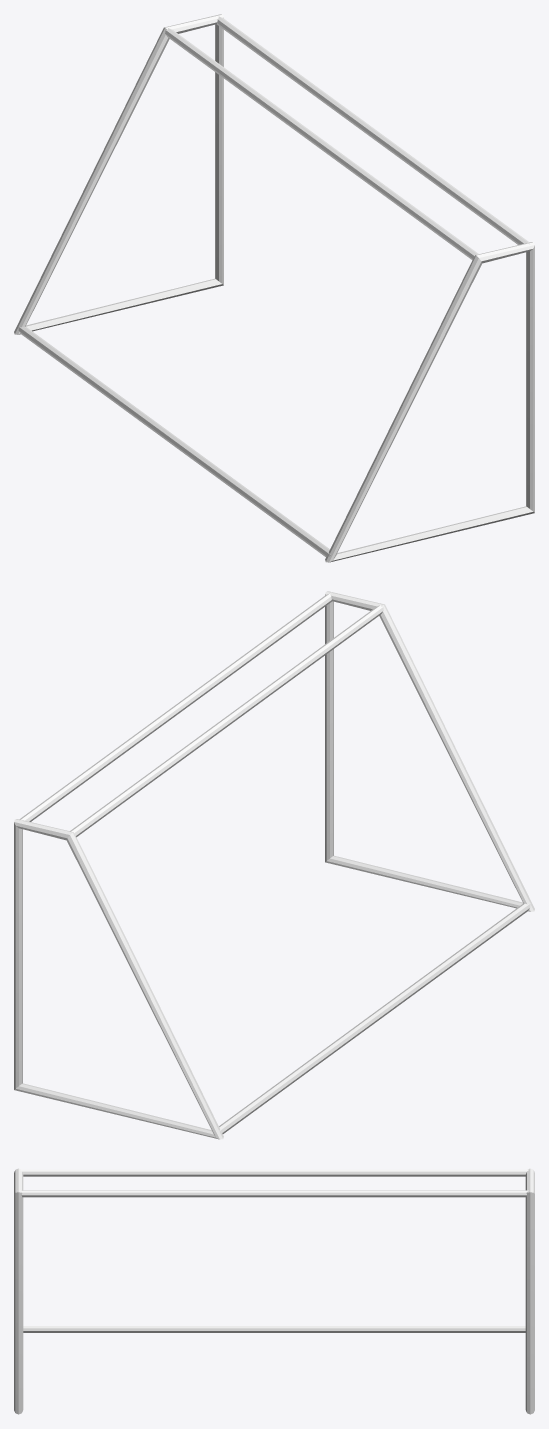
File: Gawang.fbx
The picture shows the model from 3 angles, top to bottom: view 1: azimuth 30°, elevation 25°; view 2: azimuth 150°, elevation 25°; view 3: azimuth 270°, elevation 25°; orthographic projection. The views are drawn at different scales.
Visible parts, largest first — view 1: Gawang_LOD0; view 2: Gawang_LOD0; view 3: Gawang_LOD0.
Part boxes in pixels (x1,y1,x2,y2): Gawang_LOD0: [14, 14, 534, 562]; Gawang_LOD0: [14, 591, 534, 1139]; Gawang_LOD0: [14, 1168, 534, 1414].
Size of what is drawn, in the model's own units: 214 by 266 by 563.
